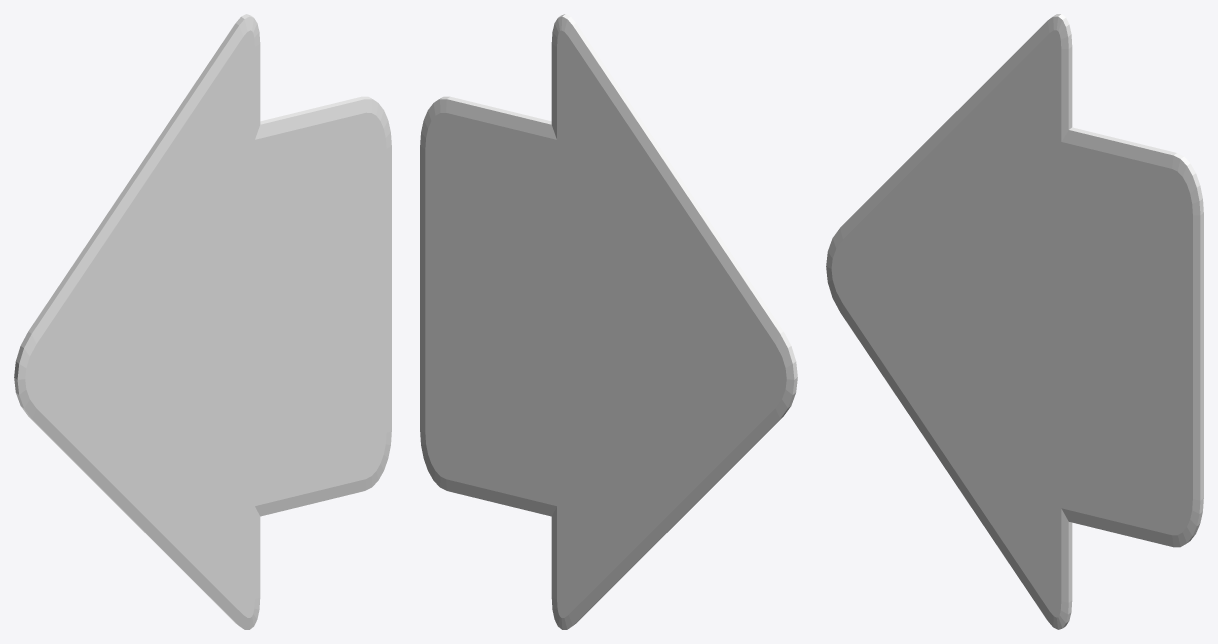
File: Arrow_Icon_02.fbx
3 renders of one model, left to right at view 1: azimuth 30°, elevation 25°; view 2: azimuth 150°, elevation 25°; view 3: azimuth 330°, elevation 25°, orthographic.
Parts seen in each view (by area): view 1: Arrow_3D_Icon_2; view 2: Arrow_3D_Icon_2; view 3: Arrow_3D_Icon_2.
Part boxes in pixels (x1,y1,x2,y2): Arrow_3D_Icon_2: (14,14,391,629); Arrow_3D_Icon_2: (420,14,797,629); Arrow_3D_Icon_2: (826,14,1203,629).
Bounding box in the file's own units: 76.08 × 119 × 2.
